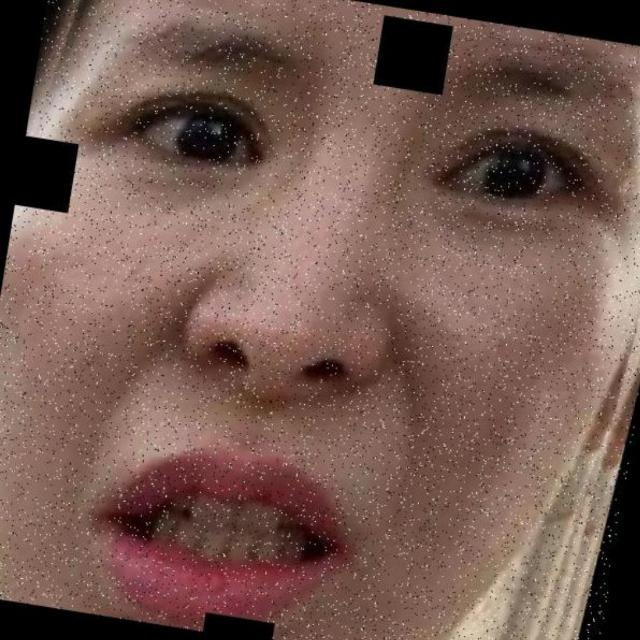Angry: (21, 23, 619, 593)
